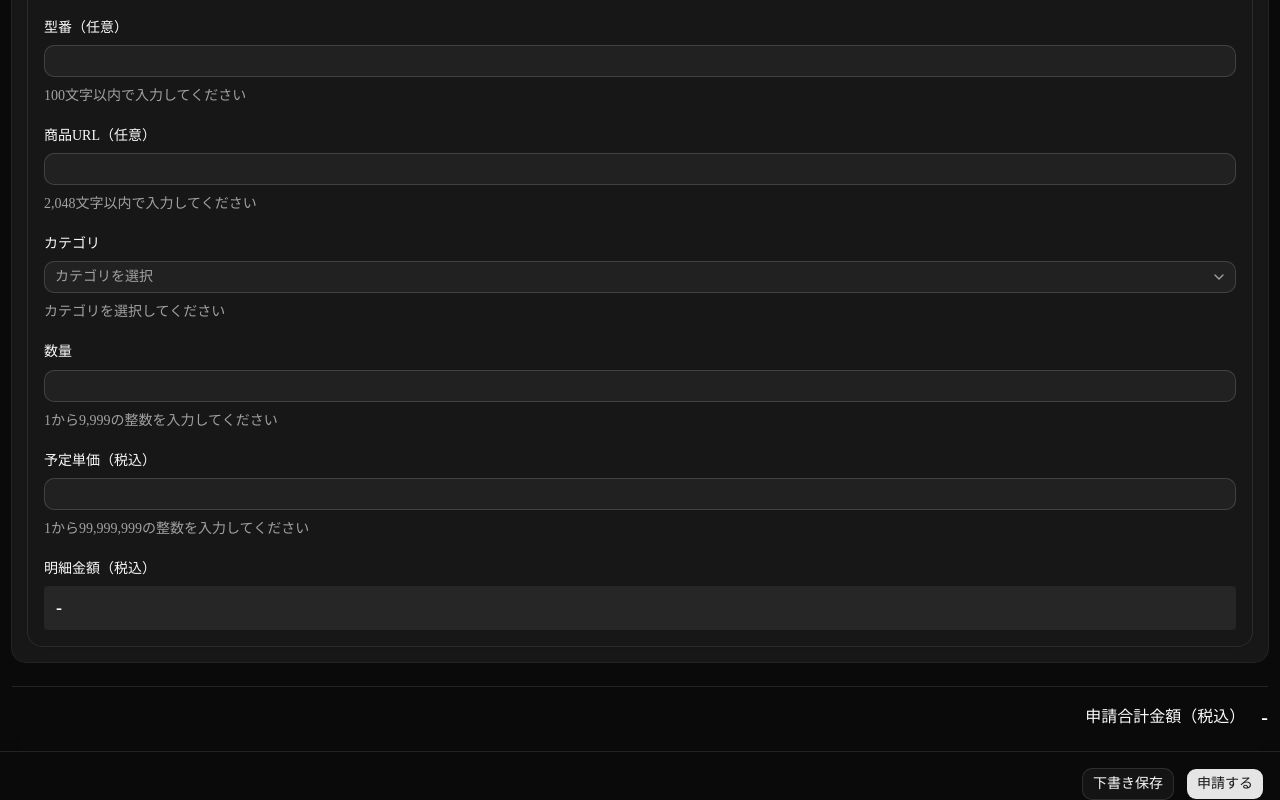
Test: CreateRequestForm › 必須項目が空のまま申請すると各入力欄にエラーを表示する
(page scrolled)
Click the button "申請する". click: coordinates (1225, 784)
box: [1186, 768, 1264, 799]
(page scrolled)
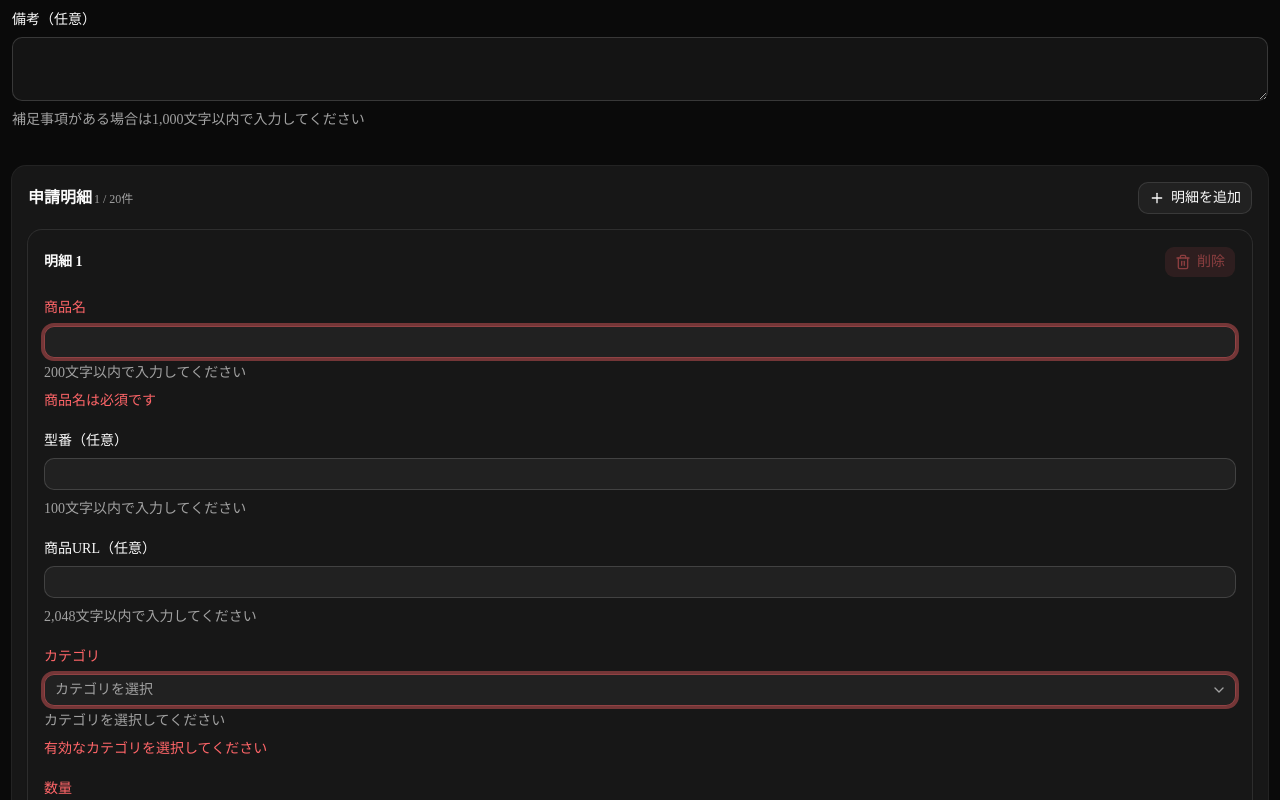
expect the text "商品名は必須です" is shown: met, box [44, 392, 156, 408]
